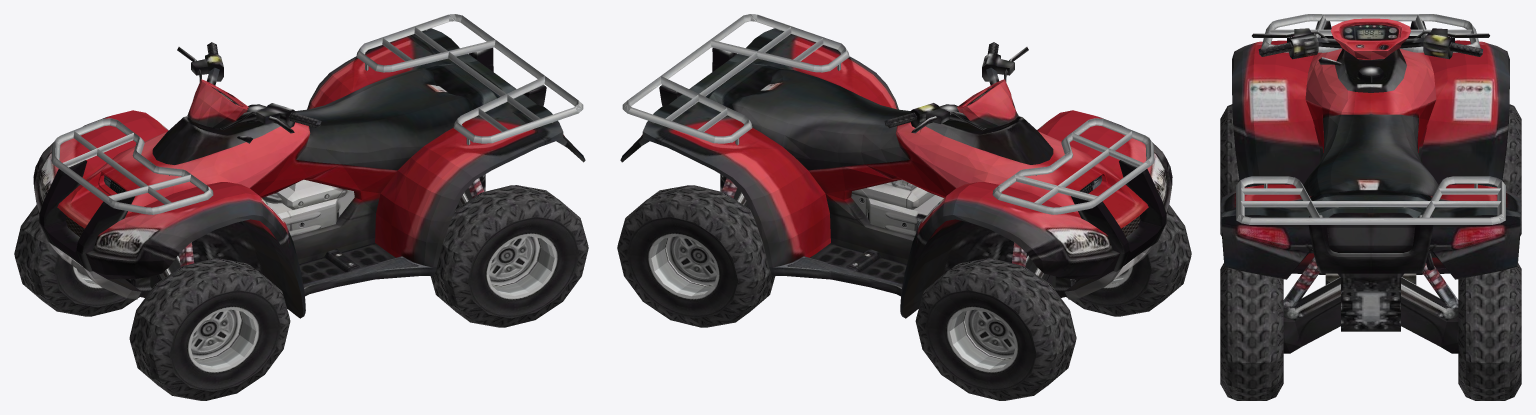
The model's file is bike.glb.
3 views of the same model, side by side, from view 1: azimuth 30°, elevation 25°; view 2: azimuth 150°, elevation 25°; view 3: azimuth 270°, elevation 25° (orthographic). The views are drawn at different scales.
Bounding box in the file's own units: 2.5 × 1.25 × 1.35.
Materials: 1 (1 with a texture image).
